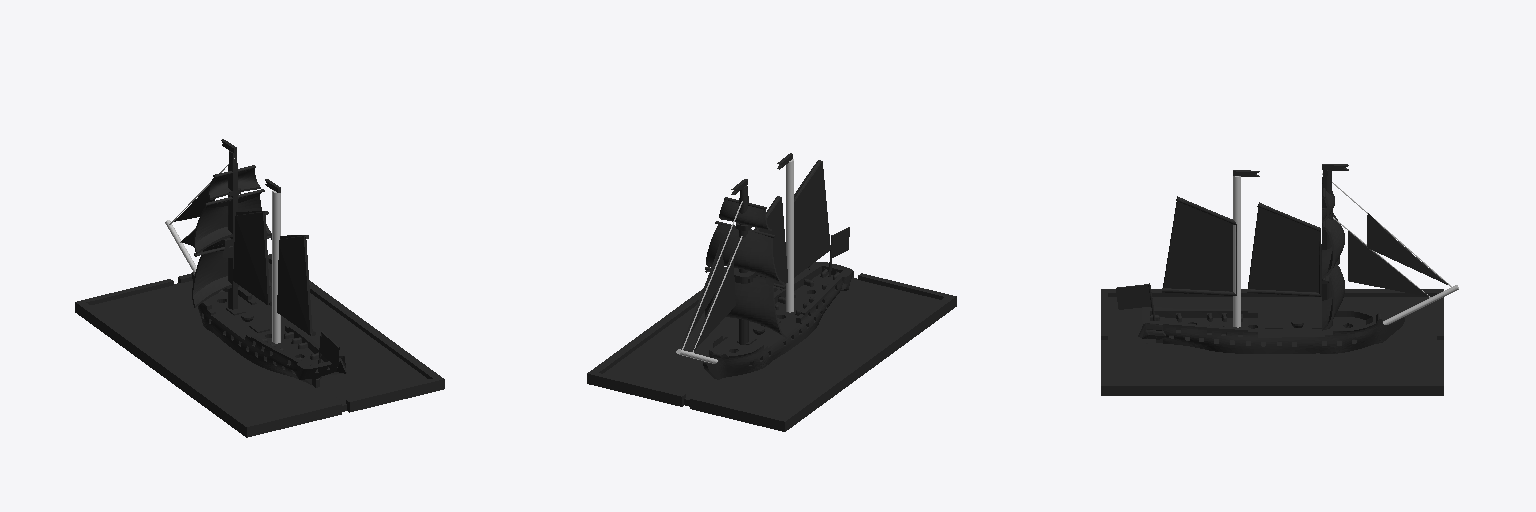
The model's file is SOG_Clipper.obj.
The picture shows the model from 3 angles: view 1: azimuth 30°, elevation 25°; view 2: azimuth 150°, elevation 25°; view 3: azimuth 270°, elevation 25°; orthographic projection.
Parts seen in each view (by area): view 1: SOG_Clipper.obj; view 2: SOG_Clipper.obj; view 3: SOG_Clipper.obj.
Boxes of the visible parts, x1=… form: SOG_Clipper.obj: x1=75, y1=139, x2=444, y2=437; SOG_Clipper.obj: x1=587, y1=153, x2=956, y2=431; SOG_Clipper.obj: x1=1101, y1=164, x2=1458, y2=395.
Size of the model in its own units: 4.3 by 3.82 by 6.74.